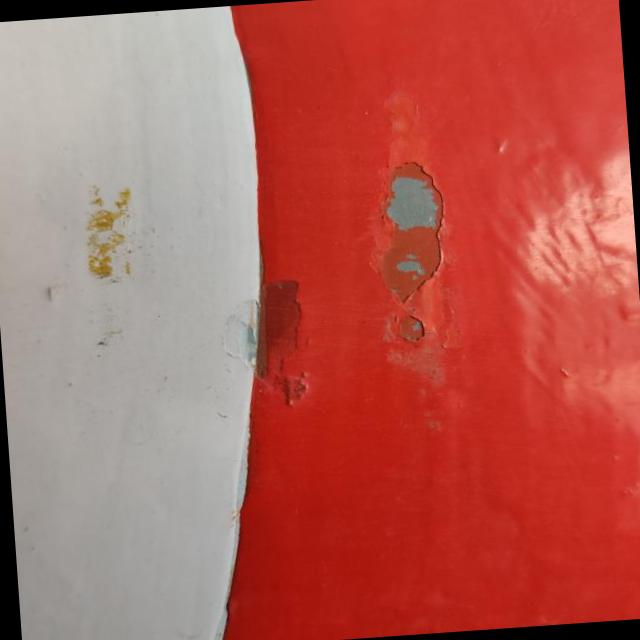Paint-off: (368, 158, 446, 350), (228, 279, 307, 405)
